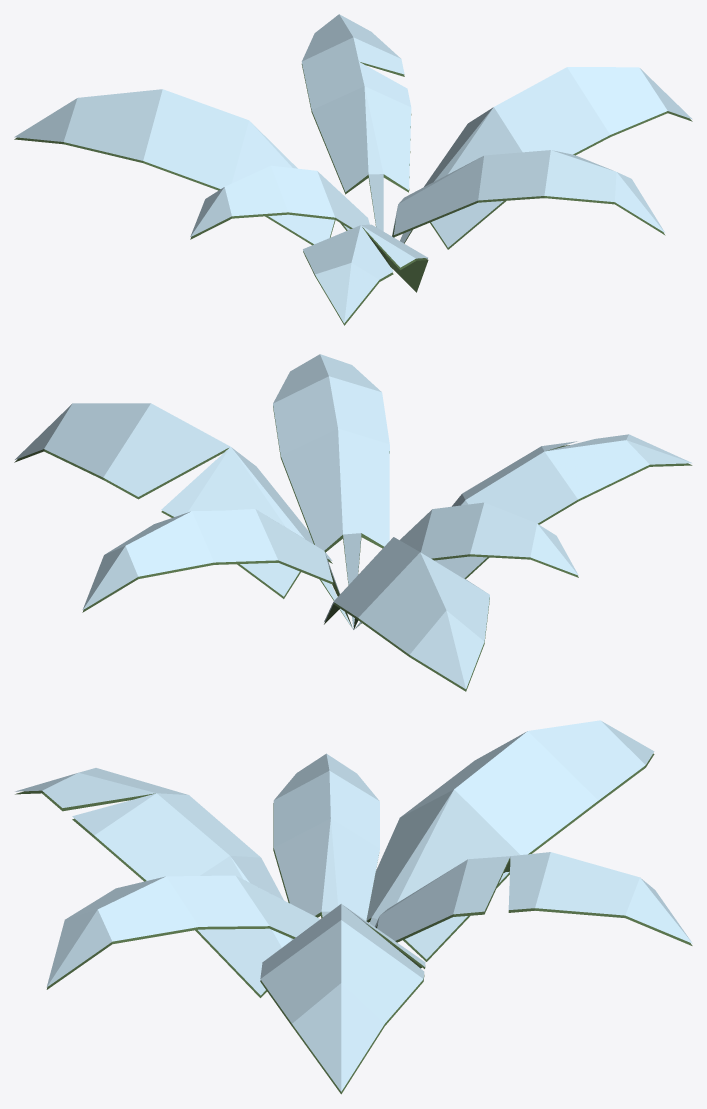
The model's file is model_polytope_snow_plant01.fbx.
3 views of the same model, one above another, from view 1: azimuth 30°, elevation 25°; view 2: azimuth 150°, elevation 25°; view 3: azimuth 270°, elevation 25° (orthographic). The views are drawn at different scales.
Parts seen in each view (by area): view 1: model_polytope_snow_plant01; view 2: model_polytope_snow_plant01; view 3: model_polytope_snow_plant01.
Boxes of the visible parts, x1,y1,x2,y2 form: model_polytope_snow_plant01: (14,14,692,325); model_polytope_snow_plant01: (14,354,692,691); model_polytope_snow_plant01: (15,720,692,1094).
Size of the model in its own units: 138 by 39.69 by 125.
1 material, 1 textured.
